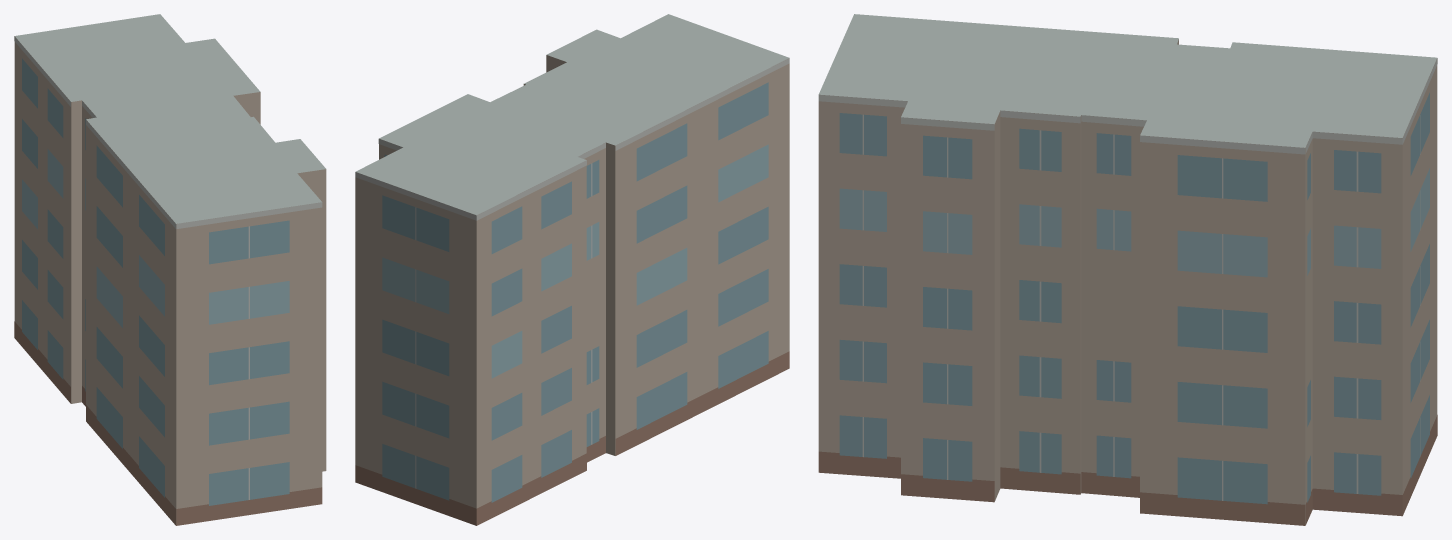
Rendered from survey-upis-32697961.glb.
3 views of the same model, side by side, from view 1: azimuth 30°, elevation 25°; view 2: azimuth 150°, elevation 25°; view 3: azimuth 270°, elevation 25° (orthographic). The views are drawn at different scales.
Visible parts, largest first — view 1: survey-upis-32697961.tmp; view 2: survey-upis-32697961.tmp; view 3: survey-upis-32697961.tmp.
Part boxes in pixels (x1=…): survey-upis-32697961.tmp: x1=14, y1=14, x2=326, y2=525; survey-upis-32697961.tmp: x1=355, y1=14, x2=789, y2=525; survey-upis-32697961.tmp: x1=818, y1=14, x2=1437, y2=525.
Size of the model in its own units: 10.57 by 13.9 by 20.64.
